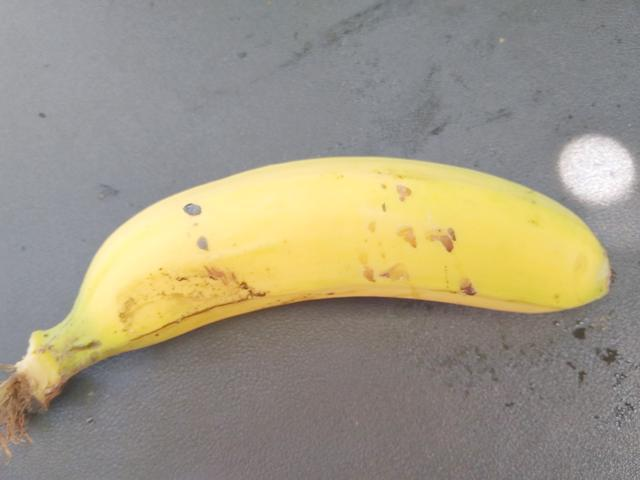ripe: (46, 128, 614, 382)
